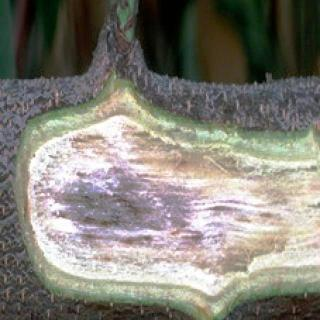wilt: (30, 111, 306, 281)
